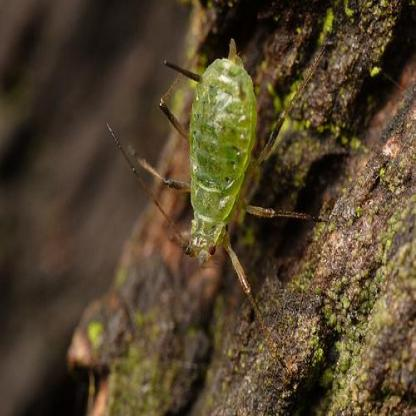aphid: (138, 35, 304, 303)
